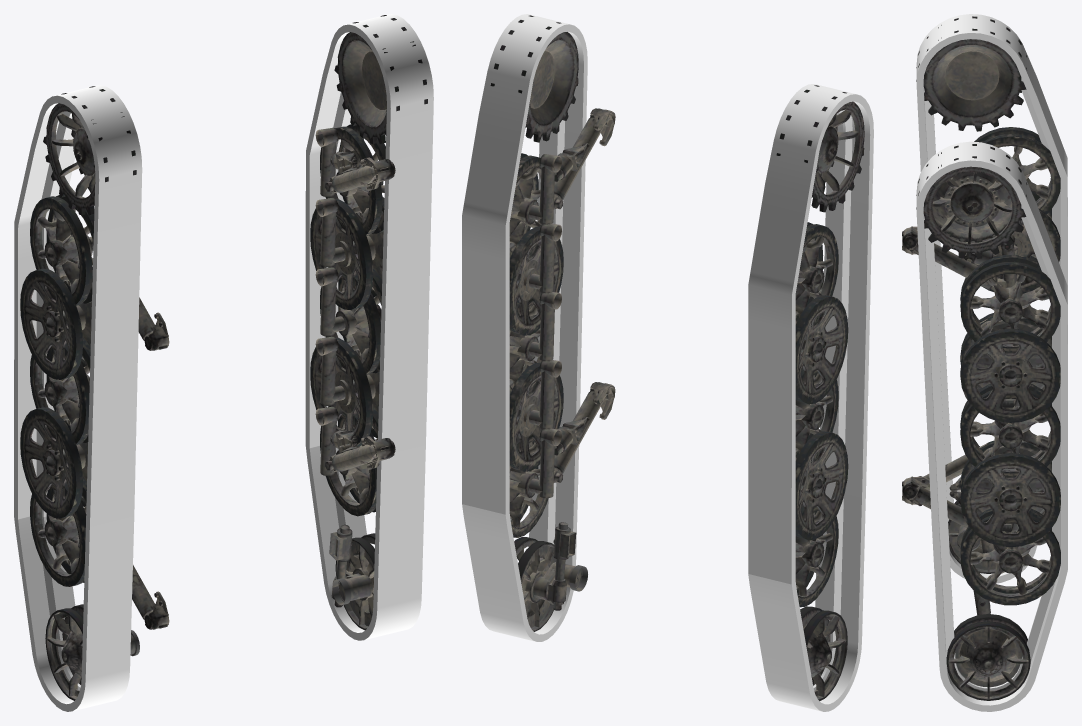
Rendered from Chassis.glb.
3 views of the same model, side by side, from view 1: azimuth 30°, elevation 25°; view 2: azimuth 150°, elevation 25°; view 3: azimuth 270°, elevation 25° (orthographic). The views are drawn at different scales.
Visible parts, largest first — view 1: set_0_group_0, set_1_group_0, set_3_group_0, set_2_group_0; view 2: set_0_group_0, set_1_group_0, set_3_group_0, set_2_group_0; view 3: set_3_group_0, set_1_group_0, set_2_group_0, set_0_group_0.
Boxes of the visible parts, <box> form: set_0_group_0: <box>14,85,142,711</box>; set_1_group_0: <box>305,14,433,640</box>; set_3_group_0: <box>310,15,427,630</box>; set_2_group_0: <box>20,86,169,700</box>; set_0_group_0: <box>748,84,873,711</box>; set_1_group_0: <box>462,14,587,641</box>; set_3_group_0: <box>490,15,615,631</box>; set_2_group_0: <box>776,85,864,700</box>; set_3_group_0: <box>902,144,1060,700</box>; set_1_group_0: <box>916,141,1067,711</box>; set_2_group_0: <box>902,16,1060,573</box>; set_0_group_0: <box>916,14,1067,583</box>.
Bounding box in the file's own units: 2.27 × 3.97 × 1.08.
Materials: 4 (2 with a texture image).
